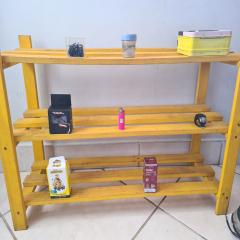cx-bike: (48, 93, 74, 134)
cx-ferro: (142, 157, 156, 193)
cx-magali: (176, 30, 232, 56)
cx-minions: (46, 158, 72, 200)
cx-xuxa: (64, 36, 85, 58)
isqueiro: (118, 107, 126, 131)
luz: (193, 113, 208, 129)
pote: (121, 33, 137, 59)
